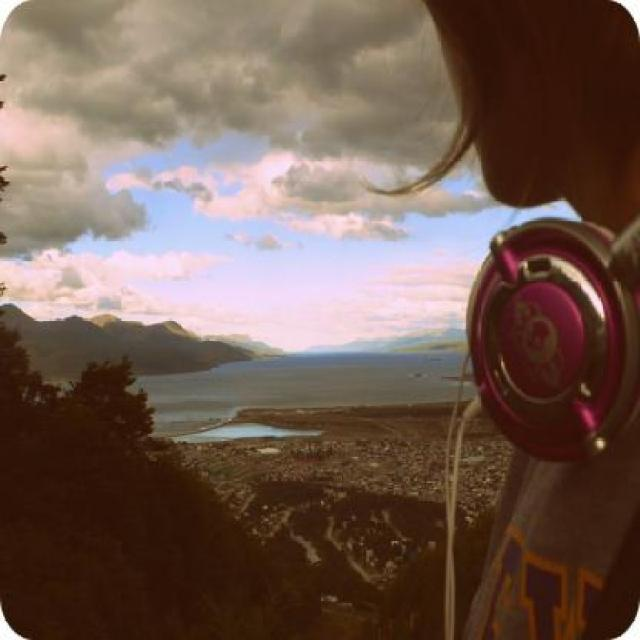earphone: (468, 148, 640, 486)
